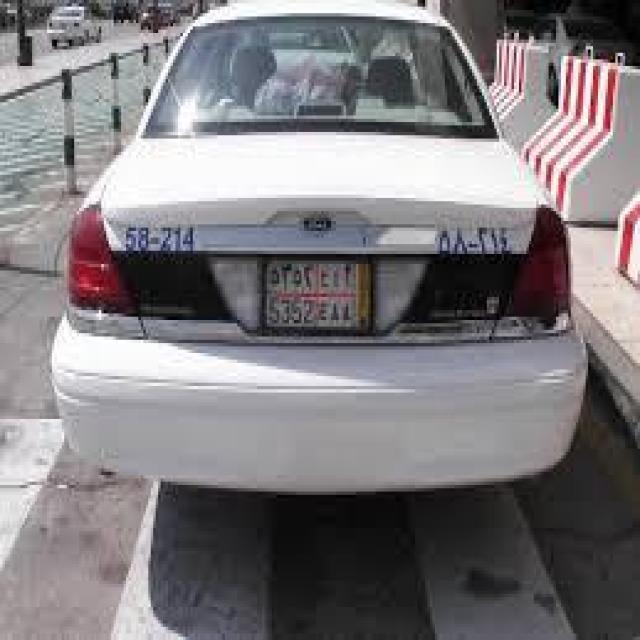license_plate: (247, 234, 373, 343)
